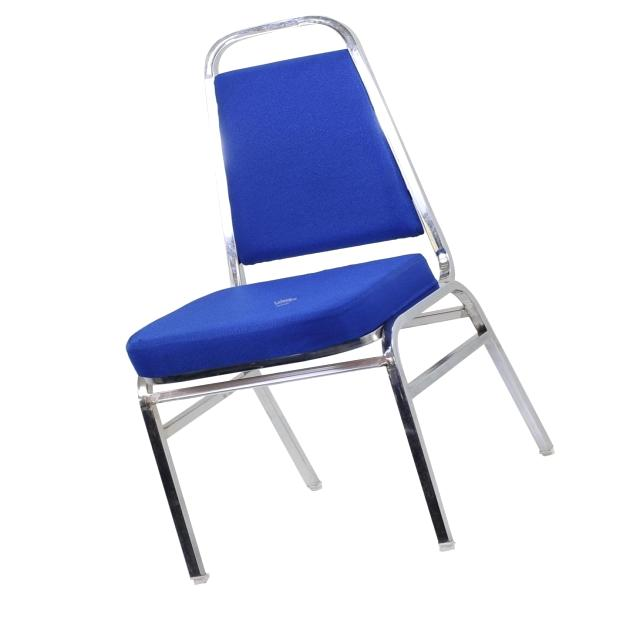Chair: (124, 15, 564, 590)
